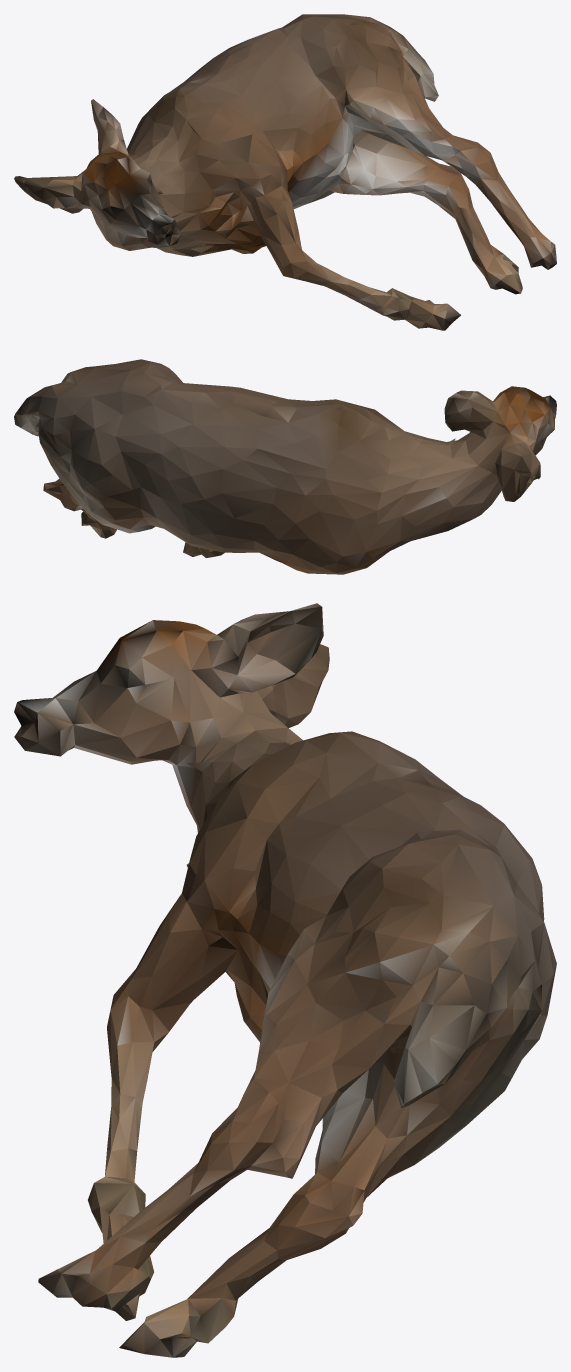
File: carcass.glb
3 renders of one model, top to bottom at view 1: azimuth 30°, elevation 25°; view 2: azimuth 150°, elevation 25°; view 3: azimuth 270°, elevation 25°, orthographic. The views are drawn at different scales.
Parts seen in each view (by area): view 1: carcass; view 2: carcass; view 3: carcass.
Part boxes in pixels (<box>): carcass: <box>14,14,556,330</box>; carcass: <box>14,359,556,574</box>; carcass: <box>14,603,556,1357</box>.
Bounding box in the file's own units: 3.75 × 1.99 × 2.12.
